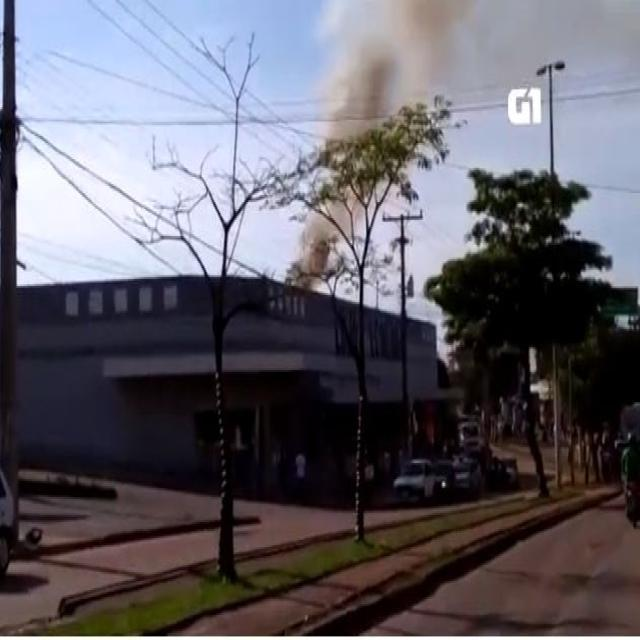Smoke: (286, 0, 460, 265)
